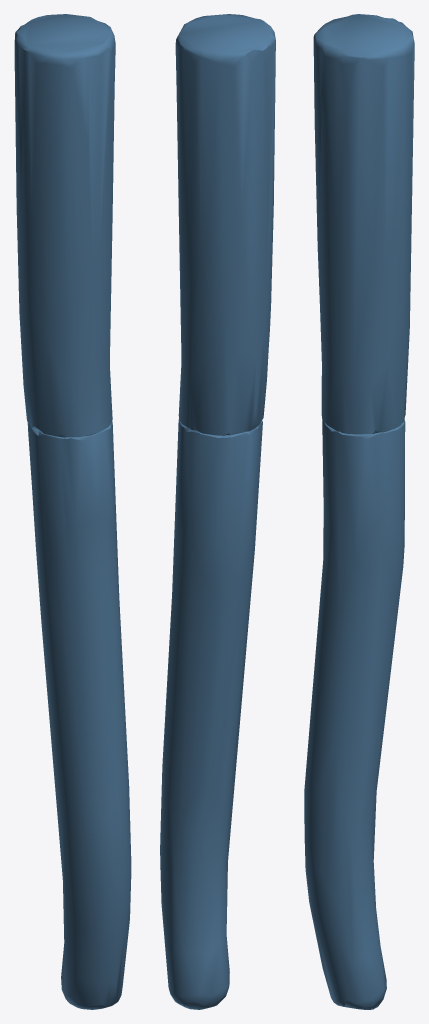
Rendered from inferior_vena_cava.glb.
3 views of the same model, side by side, from view 1: azimuth 30°, elevation 25°; view 2: azimuth 210°, elevation 25°; view 3: azimuth 270°, elevation 25° (orthographic).
Visible parts, largest first — view 1: Inferior Vena Cava; view 2: Inferior Vena Cava; view 3: Inferior Vena Cava.
Part boxes in pixels (x1,y1,x2,y2): Inferior Vena Cava: (14, 14, 131, 1009); Inferior Vena Cava: (160, 14, 275, 1009); Inferior Vena Cava: (304, 14, 414, 1009).
Size of the model in its own units: 0.0245 by 0.2395 by 0.0251.
